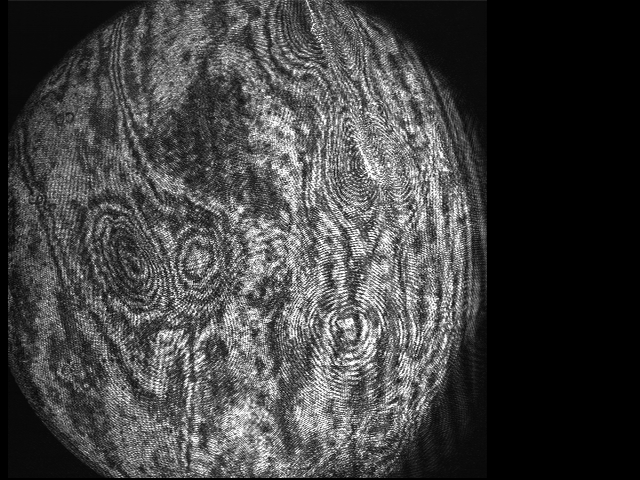plume: (327, 115, 416, 218)
